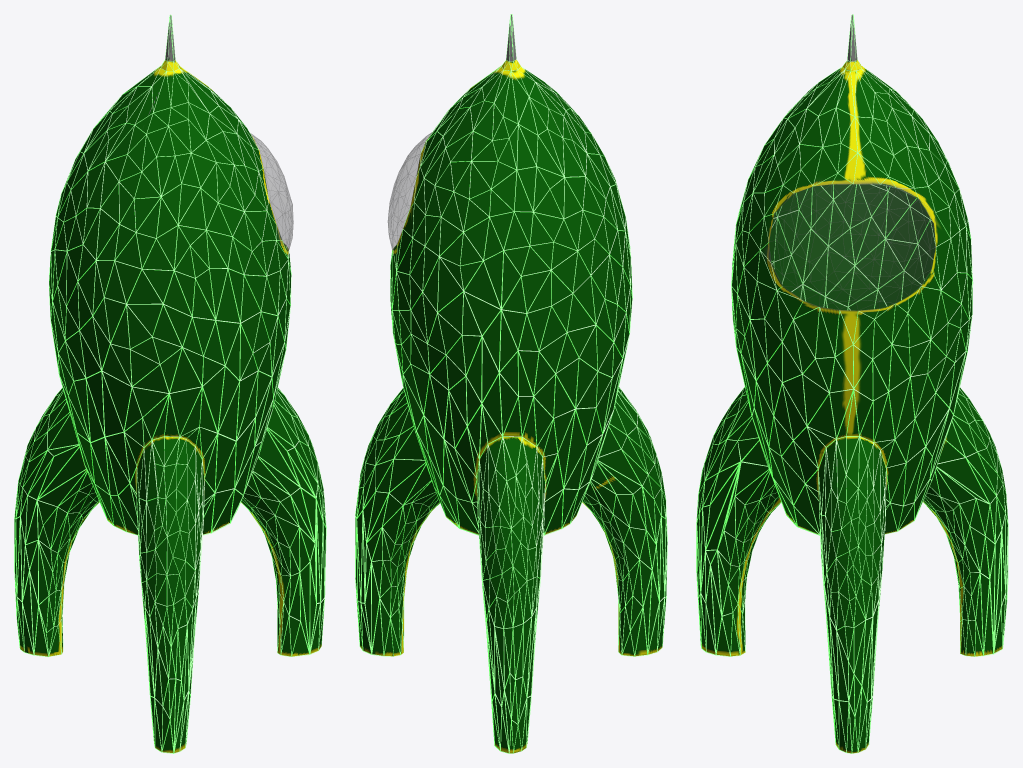
Rendered from FairyDustwire2.glb.
3 views of the same model, side by side, from view 1: azimuth 30°, elevation 25°; view 2: azimuth 150°, elevation 25°; view 3: azimuth 270°, elevation 25° (orthographic).
Visible parts, largest first — view 1: Fairy_Dust_full; view 2: Fairy_Dust_full; view 3: Fairy_Dust_full.
Part boxes in pixels (x1=…): Fairy_Dust_full: x1=14, y1=14, x2=326, y2=753; Fairy_Dust_full: x1=355, y1=14, x2=667, y2=753; Fairy_Dust_full: x1=696, y1=14, x2=1008, y2=753.
Bounding box in the file's own units: 2.57 × 6.31 × 2.68.
Materials: 3 (1 with a texture image).
